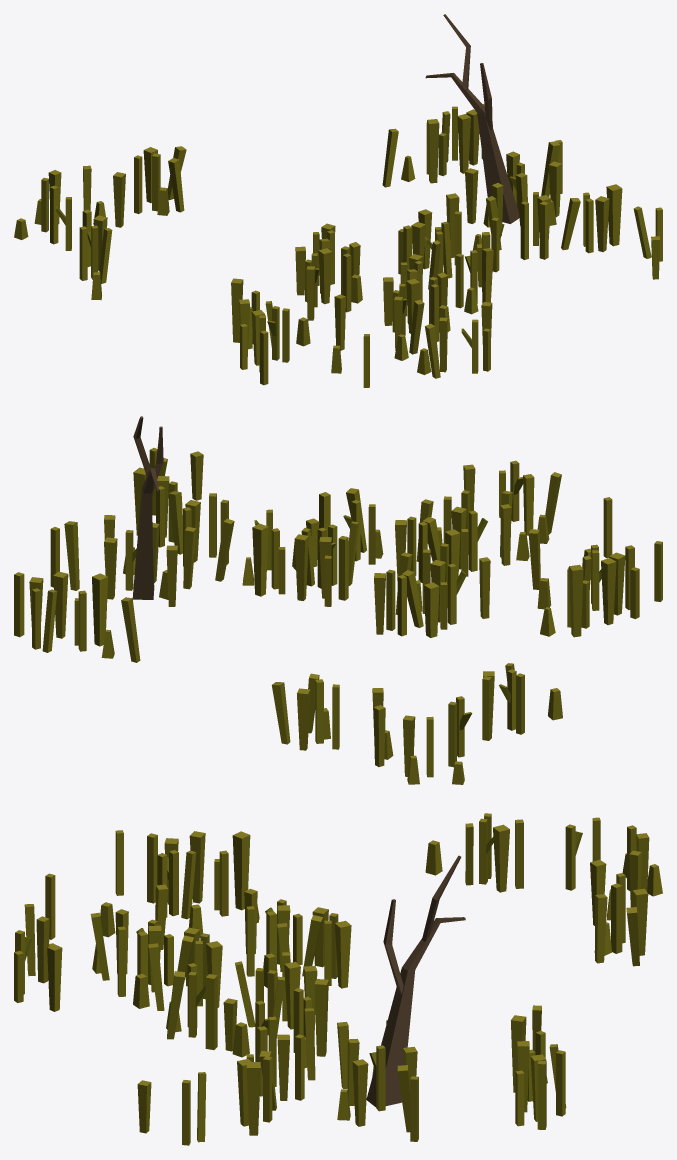
Rendered from SF_Env_Swamp_Preset_06.FBX.
3 views of the same model, one above another, from view 1: azimuth 30°, elevation 25°; view 2: azimuth 150°, elevation 25°; view 3: azimuth 270°, elevation 25° (orthographic). The views are drawn at different scales.
Visible parts, largest first — view 1: SF_Env_Swamp_Preset_06_Elements136, SF_Env_Swamp_Preset_06_Elements9, SF_Env_Swamp_Preset_06_Elements101, SF_Env_Swamp_Preset_06_Elements97, SF_Env_Swamp_Preset_06_Elements8, SF_Env_Swamp_Preset_06_Elements106, SF_Env_Swamp_Preset_06_Elements94, SF_Env_Swamp_Preset_06_Elements128, SF_Env_Swamp_Preset_06_Elements61, SF_Env_Swamp_Preset_06_Elements26, SF_Env_Swamp_Preset_06_Elements67, SF_Env_Swamp_Preset_06_Elements4 (+3 smaller); view 2: SF_Env_Swamp_Preset_06_Elements136, SF_Env_Swamp_Preset_06_Elements36, SF_Env_Swamp_Preset_06_Elements101, SF_Env_Swamp_Preset_06_Elements61, SF_Env_Swamp_Preset_06_Elements56, SF_Env_Swamp_Preset_06_Elements78, SF_Env_Swamp_Preset_06_Elements97, SF_Env_Swamp_Preset_06_Elements29, SF_Env_Swamp_Preset_06_Elements105, SF_Env_Swamp_Preset_06_Elements77, SF_Env_Swamp_Preset_06_Elements130, SF_Env_Swamp_Preset_06_Elements133 (+31 smaller); view 3: SF_Env_Swamp_Preset_06_Elements136, SF_Env_Swamp_Preset_06_Elements61, SF_Env_Swamp_Preset_06_Elements36, SF_Env_Swamp_Preset_06_Elements33, SF_Env_Swamp_Preset_06_Elements118, SF_Env_Swamp_Preset_06_Elements104, SF_Env_Swamp_Preset_06_Elements9, SF_Env_Swamp_Preset_06_Elements79, SF_Env_Swamp_Preset_06_Elements70, SF_Env_Swamp_Preset_06_Elements131, SF_Env_Swamp_Preset_06_Elements56, SF_Env_Swamp_Preset_06_Elements73 (+57 smaller).
Part boxes in pixels (box(x1,y1,x2,y2)): SF_Env_Swamp_Preset_06_Elements136: box(425, 73, 519, 223); SF_Env_Swamp_Preset_06_Elements9: box(606, 184, 622, 246); SF_Env_Swamp_Preset_06_Elements101: box(427, 119, 439, 183); SF_Env_Swamp_Preset_06_Elements97: box(457, 114, 470, 173); SF_Env_Swamp_Preset_06_Elements8: box(595, 196, 609, 251); SF_Env_Swamp_Preset_06_Elements106: box(318, 248, 332, 304); SF_Env_Swamp_Preset_06_Elements94: box(465, 168, 478, 223); SF_Env_Swamp_Preset_06_Elements128: box(113, 172, 125, 227); SF_Env_Swamp_Preset_06_Elements61: box(231, 278, 243, 342); SF_Env_Swamp_Preset_06_Elements26: box(482, 248, 493, 303); SF_Env_Swamp_Preset_06_Elements67: box(334, 294, 345, 350); SF_Env_Swamp_Preset_06_Elements4: box(539, 201, 548, 259); SF_Env_Swamp_Preset_06_Elements136: box(132, 468, 158, 599); SF_Env_Swamp_Preset_06_Elements36: box(252, 523, 268, 596); SF_Env_Swamp_Preset_06_Elements101: box(92, 573, 108, 646); SF_Env_Swamp_Preset_06_Elements61: box(569, 564, 583, 637); SF_Env_Swamp_Preset_06_Elements56: box(601, 558, 616, 625); SF_Env_Swamp_Preset_06_Elements78: box(64, 521, 79, 590); SF_Env_Swamp_Preset_06_Elements97: box(53, 571, 68, 638); SF_Env_Swamp_Preset_06_Elements29: box(294, 534, 308, 600); SF_Env_Swamp_Preset_06_Elements105: box(424, 582, 439, 637); SF_Env_Swamp_Preset_06_Elements77: box(121, 597, 140, 662); SF_Env_Swamp_Preset_06_Elements130: box(271, 682, 290, 744); SF_Env_Swamp_Preset_06_Elements133: box(297, 688, 310, 750); SF_Env_Swamp_Preset_06_Elements136: box(366, 917, 465, 1107); SF_Env_Swamp_Preset_06_Elements61: box(232, 831, 250, 910); SF_Env_Swamp_Preset_06_Elements36: box(314, 979, 328, 1056); SF_Env_Swamp_Preset_06_Elements33: box(205, 974, 217, 1049); SF_Env_Swamp_Preset_06_Elements118: box(493, 824, 509, 892); SF_Env_Swamp_Preset_06_Elements104: box(334, 920, 351, 988); SF_Env_Swamp_Preset_06_Elements9: box(246, 1062, 260, 1135); SF_Env_Swamp_Preset_06_Elements79: box(352, 1059, 368, 1126); SF_Env_Swamp_Preset_06_Elements70: box(47, 944, 62, 1011); SF_Env_Swamp_Preset_06_Elements131: box(611, 883, 622, 953); SF_Env_Swamp_Preset_06_Elements56: box(189, 831, 205, 903); SF_Env_Swamp_Preset_06_Elements73: box(36, 916, 49, 983).
Bounding box in the file's own units: 18.92 × 7.27 × 18.71.
